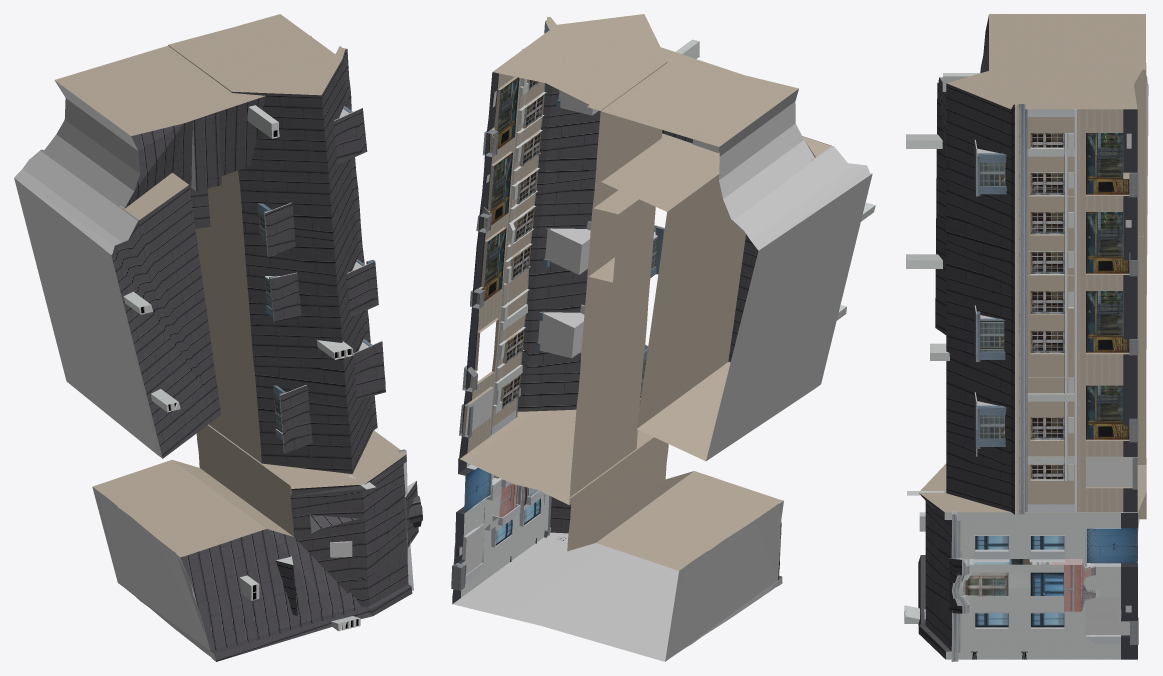
The model's file is Uus_7-origo.obj.
The picture shows the model from 3 angles, left to right: view 1: azimuth 30°, elevation 25°; view 2: azimuth 150°, elevation 25°; view 3: azimuth 270°, elevation 25°; orthographic projection. The views are drawn at different scales.
Parts seen in each view (by area): view 1: uus7, xxx; view 2: uus7, xxx; view 3: uus7, xxx.
Boxes of the visible parts, bbox=[...] form: uus7: bbox=[55, 14, 422, 661]; xxx: bbox=[14, 80, 216, 661]; uus7: bbox=[451, 14, 875, 661]; xxx: bbox=[665, 89, 872, 661]; uus7: bbox=[904, 14, 1146, 661]; xxx: bbox=[939, 71, 1148, 530].
Bounding box in the file's own units: 22.5 × 36 × 14.58.
